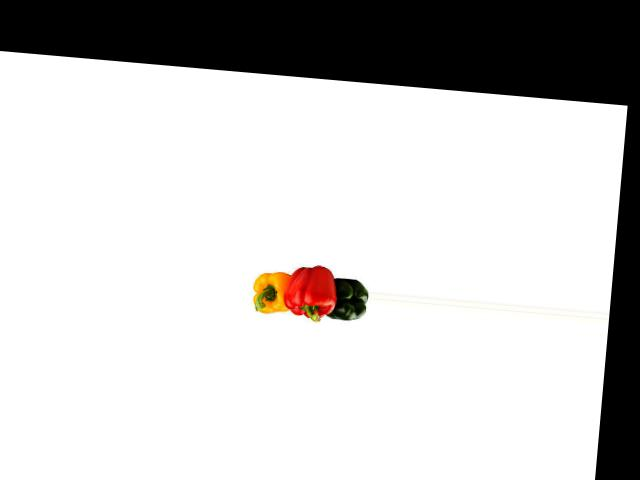bell_pepper: (248, 261, 295, 320)
